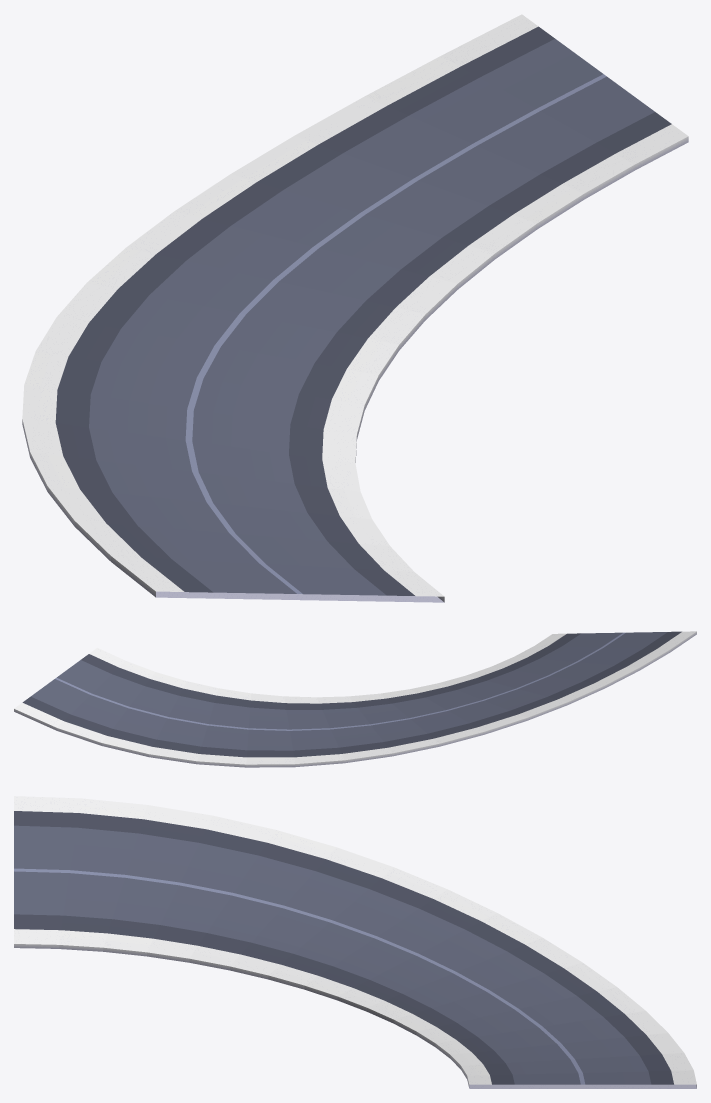
File: road-Turn-HalfBankedRight-BiSlopeUp-Up1-Right-Size3.glb
3 renders of one model, top to bottom at view 1: azimuth 30°, elevation 25°; view 2: azimuth 150°, elevation 25°; view 3: azimuth 270°, elevation 25°, orthographic. The views are drawn at different scales.
Parts seen in each view (by area): view 1: road-Turn-HalfBankedRight-BiSlopeUp-Up1-Right-Size3; view 2: road-Turn-HalfBankedRight-BiSlopeUp-Up1-Right-Size3; view 3: road-Turn-HalfBankedRight-BiSlopeUp-Up1-Right-Size3.
Boxes of the visible parts, bbox=[...] form: road-Turn-HalfBankedRight-BiSlopeUp-Up1-Right-Size3: bbox=[22, 14, 688, 602]; road-Turn-HalfBankedRight-BiSlopeUp-Up1-Right-Size3: bbox=[14, 631, 696, 767]; road-Turn-HalfBankedRight-BiSlopeUp-Up1-Right-Size3: bbox=[14, 796, 696, 1088].
Size of the model in its own units: 3 by 0.2706 by 3.
1 material, 1 textured.
